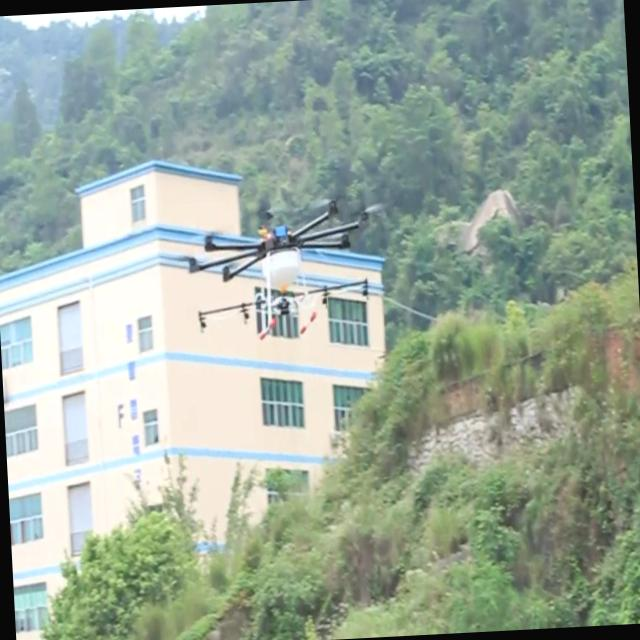drone: (184, 194, 380, 350)
